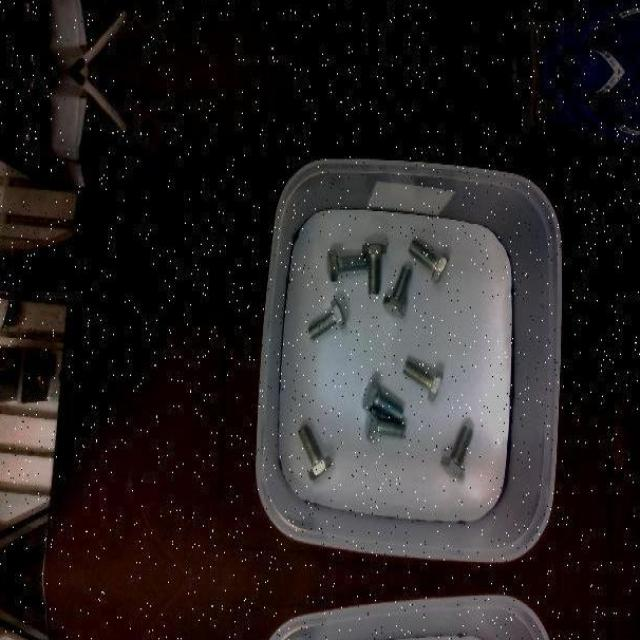screw: (298, 424, 332, 480), (362, 378, 404, 422), (408, 238, 449, 282), (441, 424, 473, 480), (402, 359, 442, 401), (308, 298, 346, 342), (382, 265, 413, 317), (366, 404, 406, 440), (326, 248, 366, 280), (362, 244, 387, 295)
